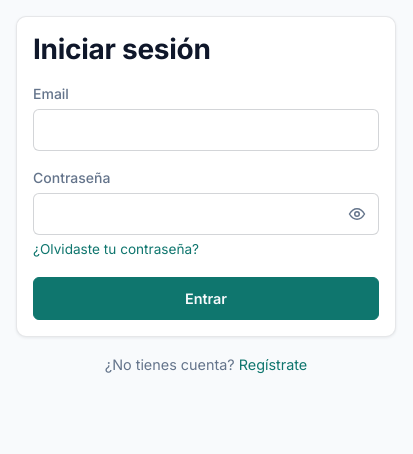
LoginView › shows an error message and stays on the page when login fails
Type "odei@example.com" into the field with id "email" at [206, 130], box [33,109,379,151]
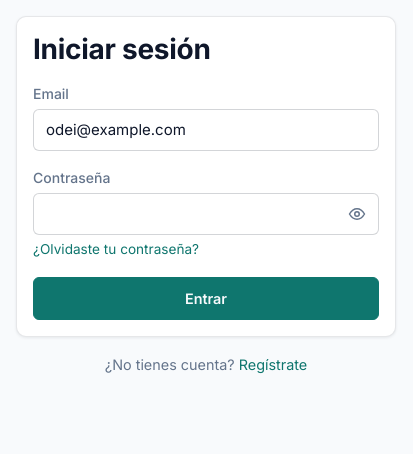
Type "wrong" into the password field labelled "Contraseña" at [206, 214], box [33,193,379,235]
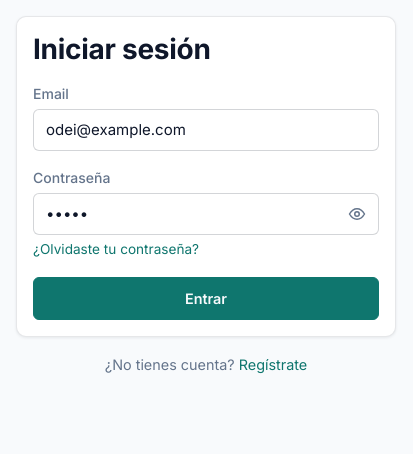
Submit the form, box [33,83,379,320]
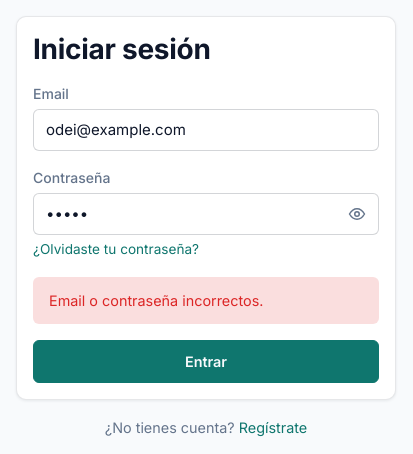
Expected: the message "Email o contraseña incorrectos." is shown, [33,277,379,324]
